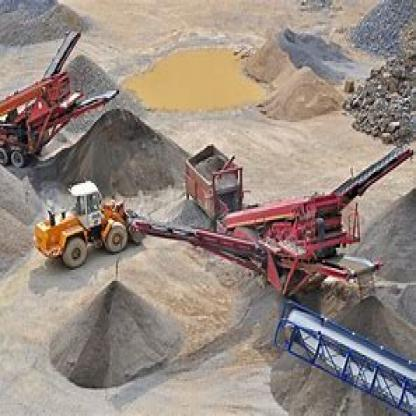bull_dozer/loader/grader: (36, 164, 171, 274)
